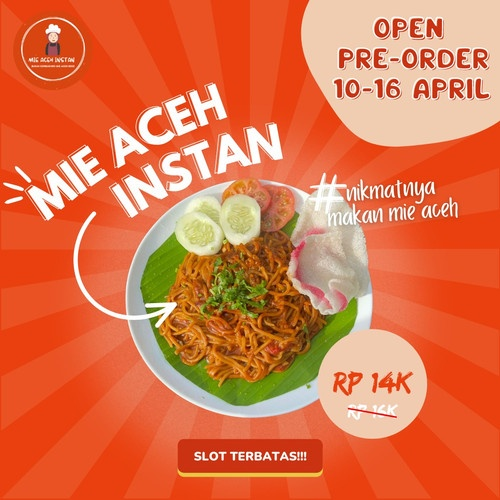mie_aceh: (160, 247, 330, 382)
